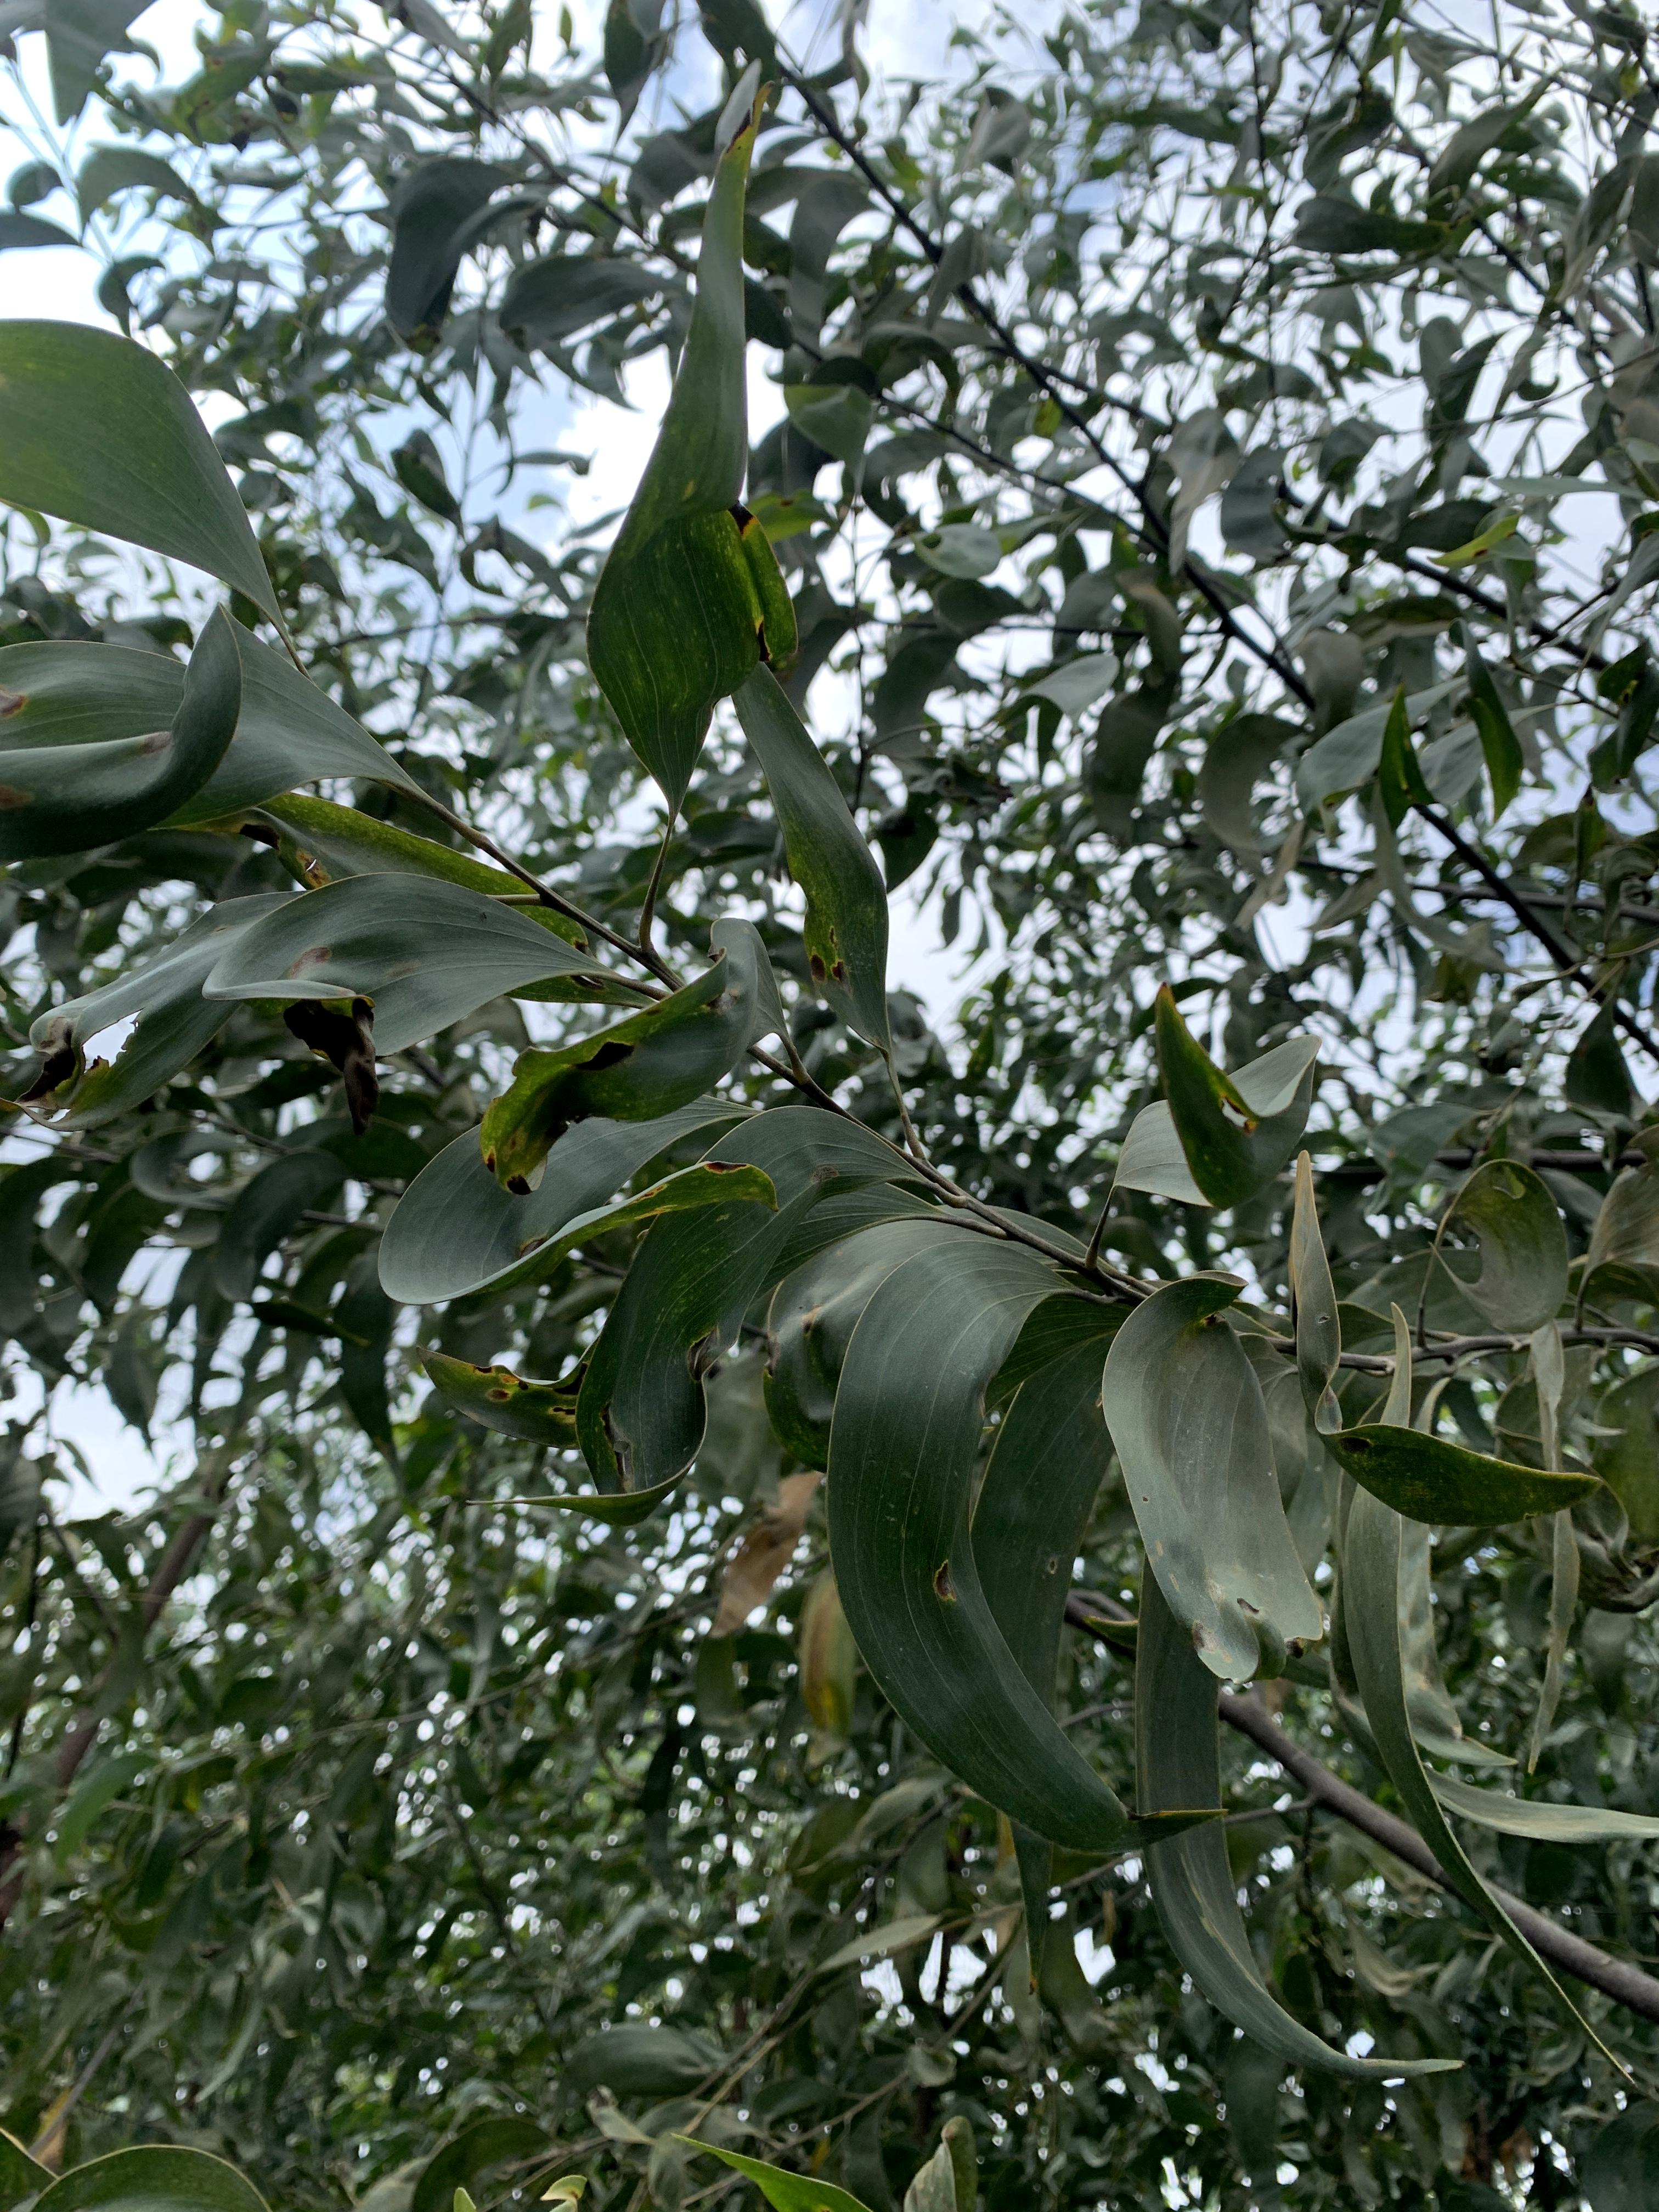Pasalora: (1281, 1162, 1572, 1571), (213, 911, 396, 1123), (12, 956, 125, 1172), (495, 1028, 643, 1174)
